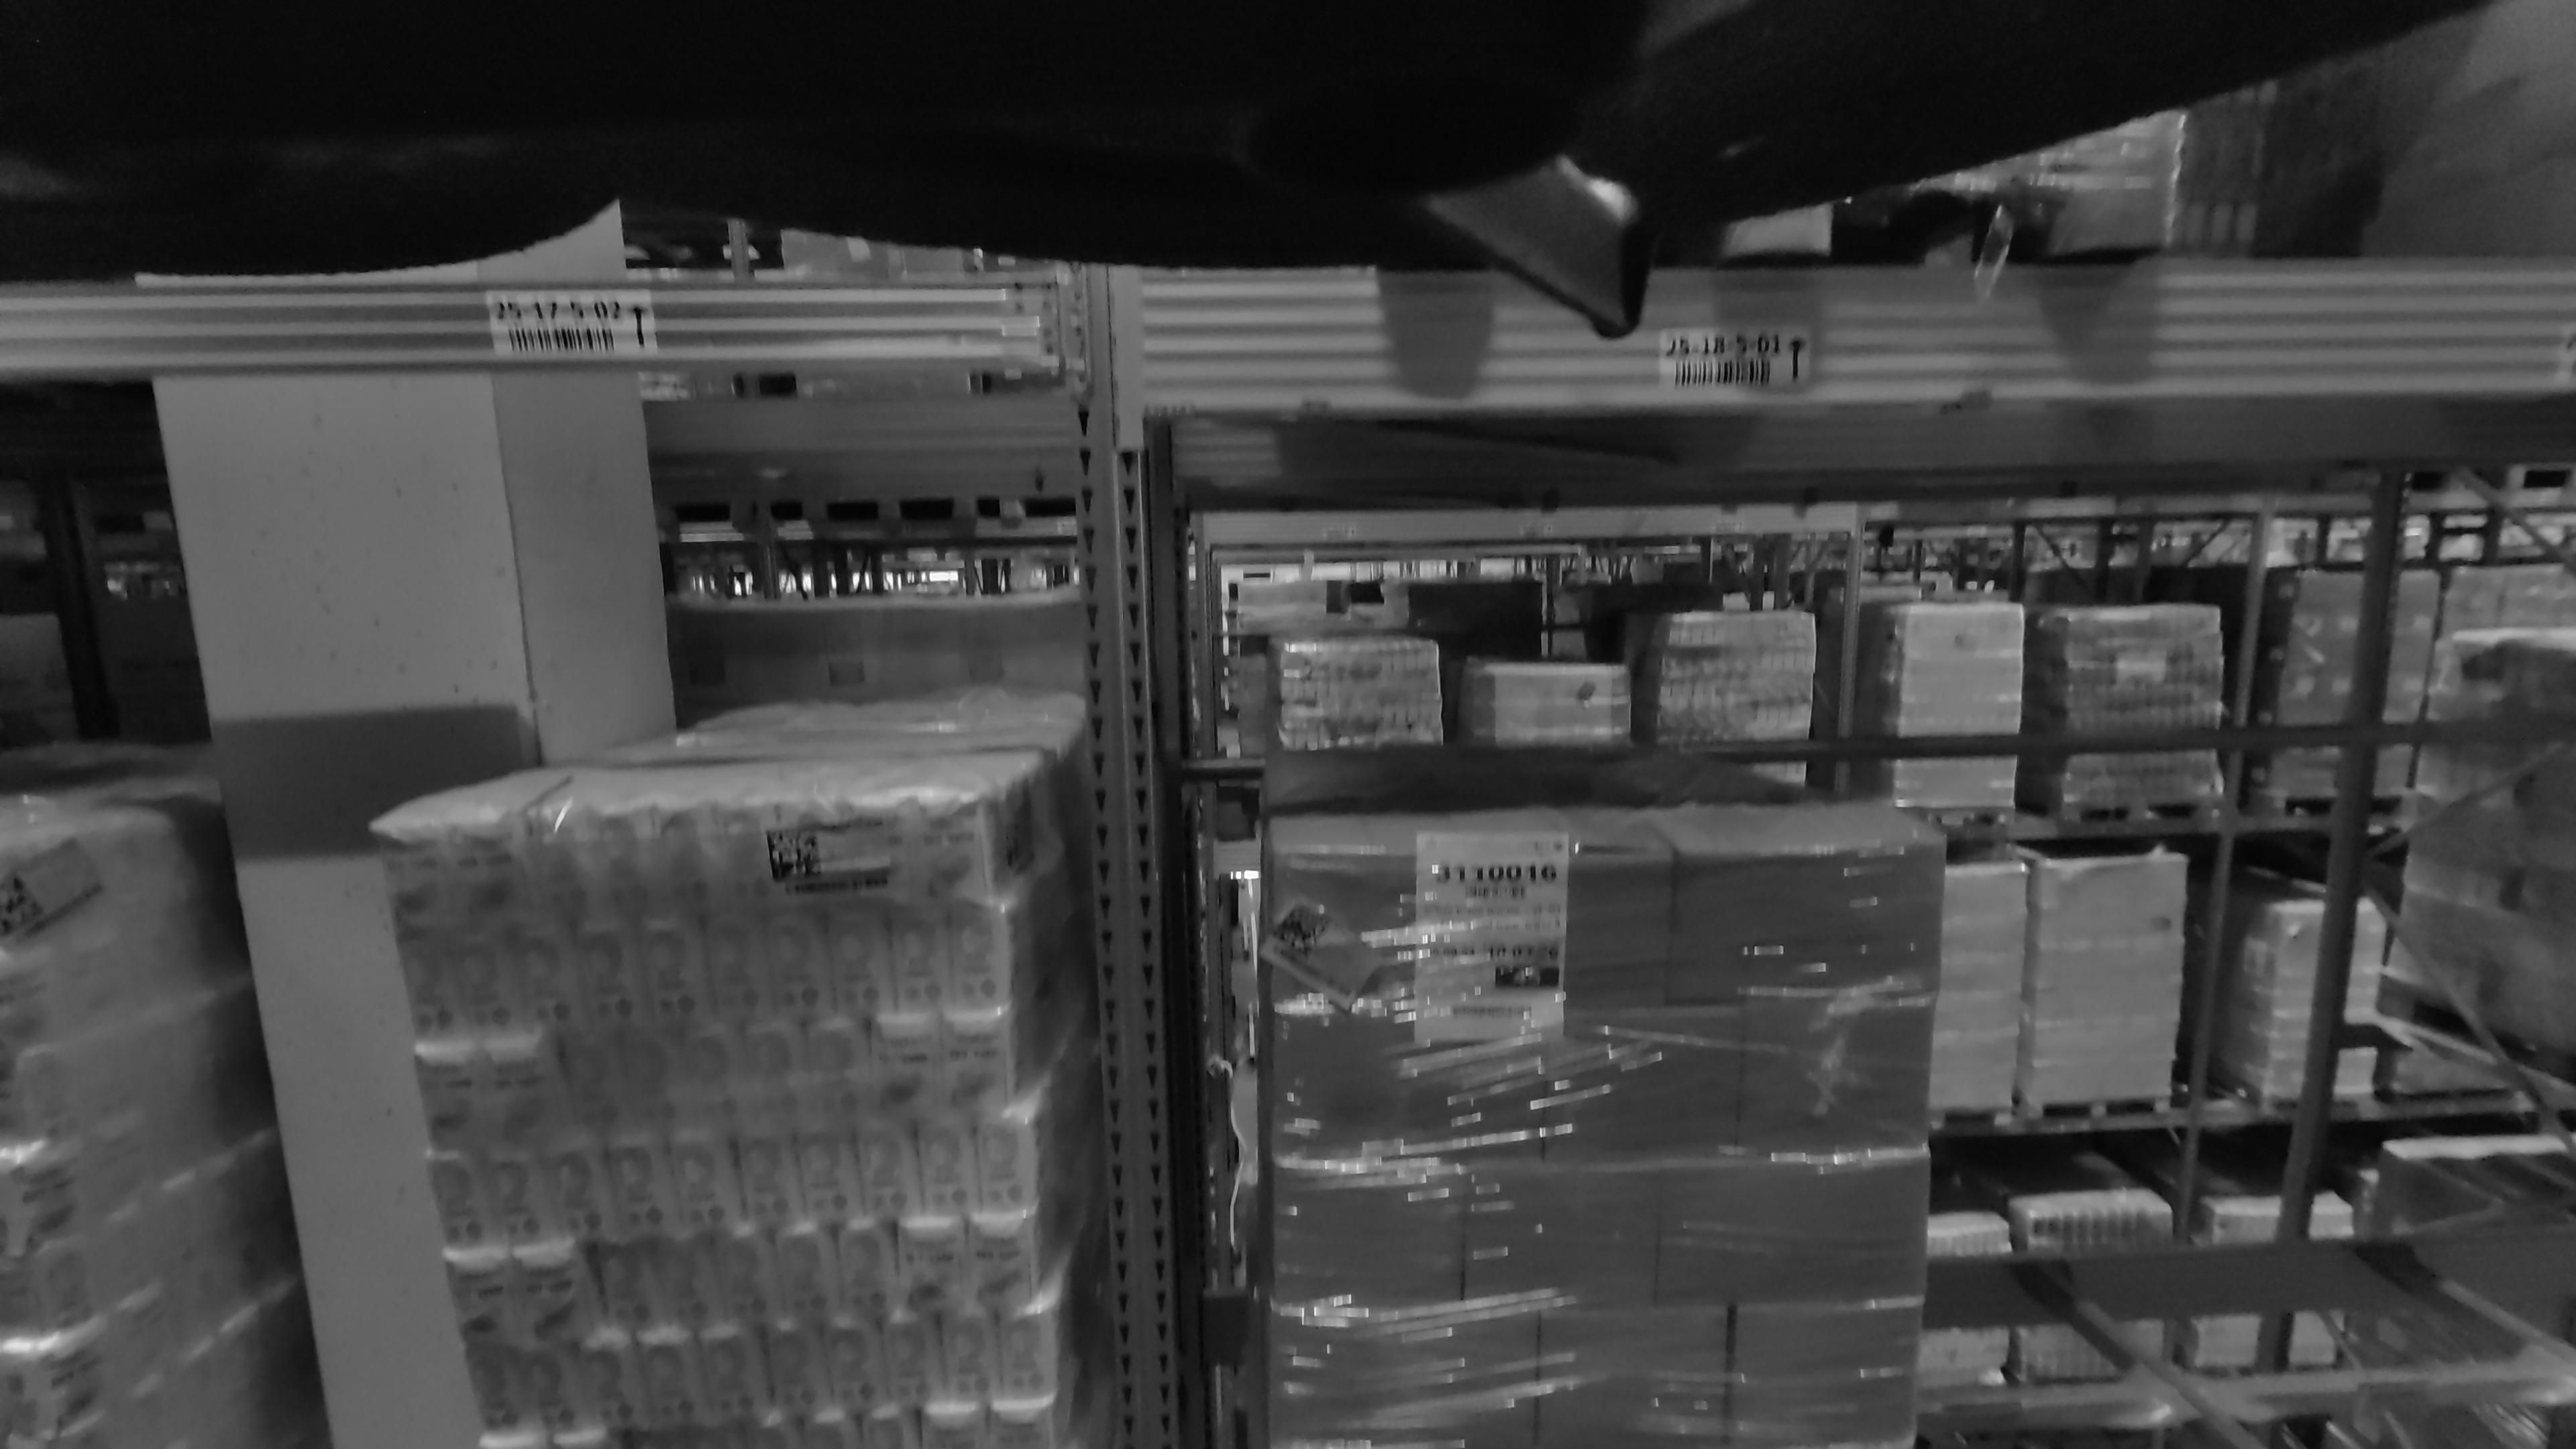empty-shelf: (1959, 464, 2567, 1449)
